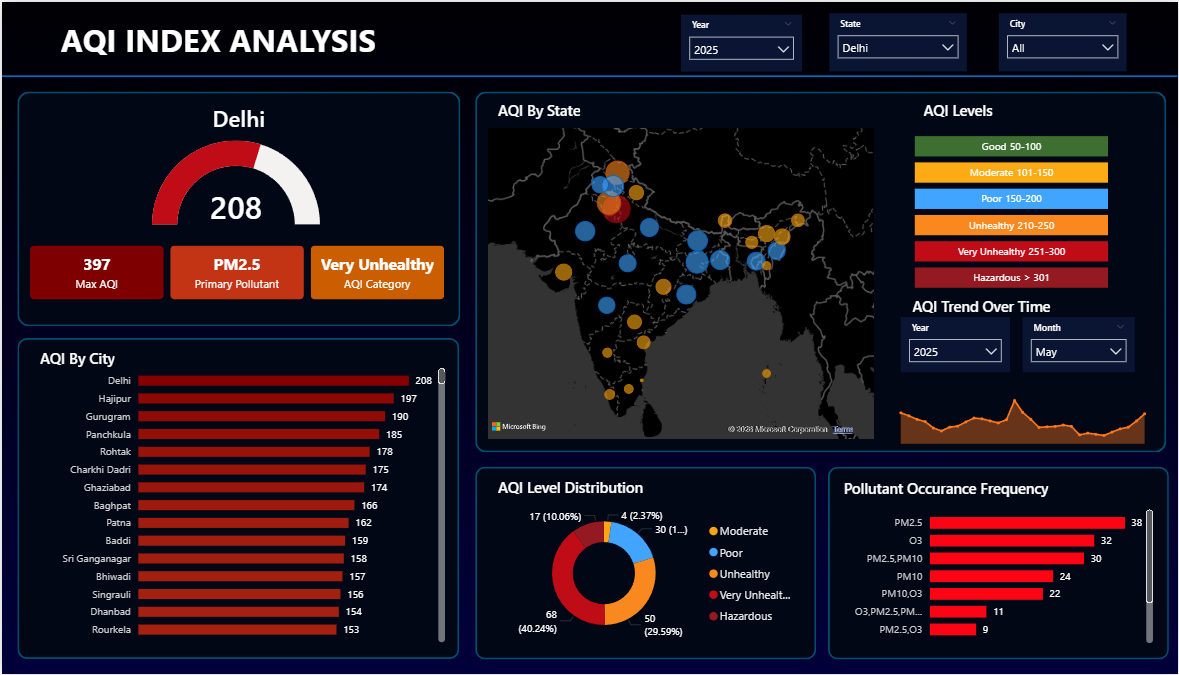

Layout of this report page (visuals, bound fields, positions):
{"tool":"powerbi","page":{"name":"AQI Index Analysis","canvas":[1400,800],"ordinal":0},"visuals":[{"type":"shape","box":[18.6,107.1,525.7,278.6],"z":0},{"type":"textbox","box":[64.4,15.7,395.6,59.7],"z":1000},{"type":"gauge","fields":{"Y":["day_wise_aqi_data.Avg AQI"]},"box":[145.7,160,267.1,110],"z":2000},{"type":"slicer","fields":{"Values":["Calender Table.Year"]},"box":[808.5,15.7,144.4,67.5],"z":3000},{"type":"slicer","fields":{"Values":["day_wise_aqi_data.state"]},"box":[984.3,14.1,163.3,69.1],"z":4000},{"type":"slicer","fields":{"Values":["day_wise_aqi_data.area"]},"box":[1186.8,14.1,152.3,69.1],"z":5000},{"type":"cardVisual","fields":{"Data":["Max(day_wise_aqi_data.aqi_value)","day_wise_aqi_data.Primary Pollutant","day_wise_aqi_data.AQI Category KPI"]},"box":[28.6,284.3,504.3,74.3],"z":6000},{"type":"cardVisual","fields":{"Data":["day_wise_aqi_data.KPI Tital"]},"box":[18.8,109.9,527.5,53.4],"z":7000},{"type":"shape","box":[564.2,107.4,822.6,429.5],"z":8000},{"type":"map","fields":{"Category":["day_wise_aqi_data.state"],"Size":["day_wise_aqi_data.Avg AQI"]},"box":[573.3,145.6,469.5,380.4],"z":9000},{"type":"cardVisual","fields":{"Data":["day_wise_aqi_data.State Map Title"]},"box":[573.3,105.6,134.7,45.5],"z":10000},{"type":"barChart","fields":{"Category":["day_wise_aqi_data.AQI Category"],"Y":["day_wise_aqi_data.Label"]},"box":[1081.6,146,240.2,199.4],"z":11000},{"type":"cardVisual","fields":{"Data":["day_wise_aqi_data.AQI Level Title"]},"box":[1079.2,105.6,136.5,45.5],"z":12000},{"type":"areaChart","fields":{"Category":["Calender Table.Date.Variation.Date Hierarchy.Day"],"Y":["day_wise_aqi_data.Avg AQI"]},"box":[1055,441.1,320.3,89.5],"z":13000},{"type":"slicer","fields":{"Values":["Calender Table.Date.Variation.Date Hierarchy.Year"]},"box":[1070.7,375.2,130.3,65.9],"z":14000},{"type":"slicer","fields":{"Values":["Calender Table.Month"]},"box":[1215.1,375.2,133.4,65.9],"z":15000},{"type":"cardVisual","fields":{"Data":["day_wise_aqi_data.Title for Monthly chart"]},"box":[1065.9,339.1,227.6,45.5],"z":16000},{"type":"shape","box":[18.2,400.4,525.9,382.2],"z":17000},{"type":"barChart","fields":{"Category":["day_wise_aqi_data.area"],"Y":["day_wise_aqi_data.Avg AQI"]},"box":[29.1,424,504.1,344],"z":18000},{"type":"cardVisual","fields":{"Data":["day_wise_aqi_data.Title for city"]},"box":[29.1,400.4,134.7,45.5],"z":19000},{"type":"shape","box":[564.2,553.2,405.8,229.3],"z":20000},{"type":"donutChart","fields":{"Category":["day_wise_aqi_data.AQI Category"],"Y":["day_wise_aqi_data.Count of Rows"]},"box":[586,591.5,367.6,176.5],"z":21000},{"type":"cardVisual","fields":{"Data":["day_wise_aqi_data.Donut Title"]},"box":[573.3,553.2,234.8,45.5],"z":22000},{"type":"shape","box":[982.7,553.2,405.8,229.3],"z":23000},{"type":"clusteredBarChart","fields":{"Category":["day_wise_aqi_data.prominent_pollutants"],"Y":["day_wise_aqi_data.Count of Rows"]},"box":[997.3,591.5,378.5,176.5],"z":24000},{"type":"cardVisual","fields":{"Data":["day_wise_aqi_data.Polluntant Title"]},"box":[984.6,555.1,296.6,45.5],"z":25000},{"type":"shape","box":[0,69.2,1399.5,40],"z":26000}]}

Visuals, with their boxes in screenshot pixels (x1, y1, x2, y2), scaled from the page's 1400x800 canvas onto the 1179x675 screenshot:
shape: 16:90:458:325
textbox: 54:13:387:64
gauge - day_wise_aqi_data.Avg AQI: 123:135:348:228
slicer - Calender Table.Year: 681:13:802:70
slicer - day_wise_aqi_data.state: 829:12:966:70
slicer - day_wise_aqi_data.area: 999:12:1128:70
cardVisual - Max(day_wise_aqi_data.aqi_value) x day_wise_aqi_data.Primary Pollutant: 24:240:449:303
cardVisual - day_wise_aqi_data.KPI Tital: 16:93:460:138
shape: 475:91:1168:453
map - day_wise_aqi_data.state x day_wise_aqi_data.Avg AQI: 483:123:878:444
cardVisual - day_wise_aqi_data.State Map Title: 483:89:596:127
barChart - day_wise_aqi_data.AQI Category x day_wise_aqi_data.Label: 911:123:1113:291
cardVisual - day_wise_aqi_data.AQI Level Title: 909:89:1024:127
areaChart - Calender Table.Date.Variation.Date Hierarchy.Day x day_wise_aqi_data.Avg AQI: 888:372:1158:448
slicer - Calender Table.Date.Variation.Date Hierarchy.Year: 902:317:1011:372
slicer - Calender Table.Month: 1023:317:1136:372
cardVisual - day_wise_aqi_data.Title for Monthly chart: 898:286:1089:325
shape: 15:338:458:660
barChart - day_wise_aqi_data.area x day_wise_aqi_data.Avg AQI: 25:358:449:648
cardVisual - day_wise_aqi_data.Title for city: 25:338:138:376
shape: 475:467:817:660
donutChart - day_wise_aqi_data.AQI Category x day_wise_aqi_data.Count of Rows: 493:499:803:648
cardVisual - day_wise_aqi_data.Donut Title: 483:467:681:505
shape: 828:467:1169:660
clusteredBarChart - day_wise_aqi_data.prominent_pollutants x day_wise_aqi_data.Count of Rows: 840:499:1159:648
cardVisual - day_wise_aqi_data.Polluntant Title: 829:468:1079:507
shape: 0:58:1178:92
